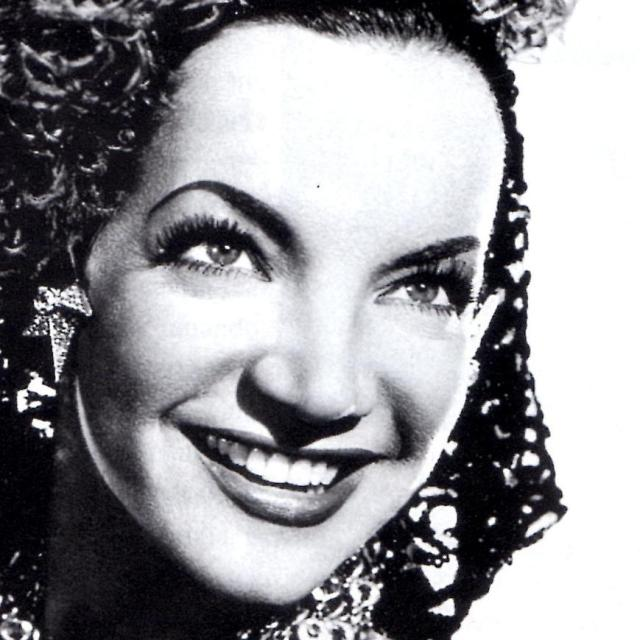Normal: (66, 20, 509, 608)
